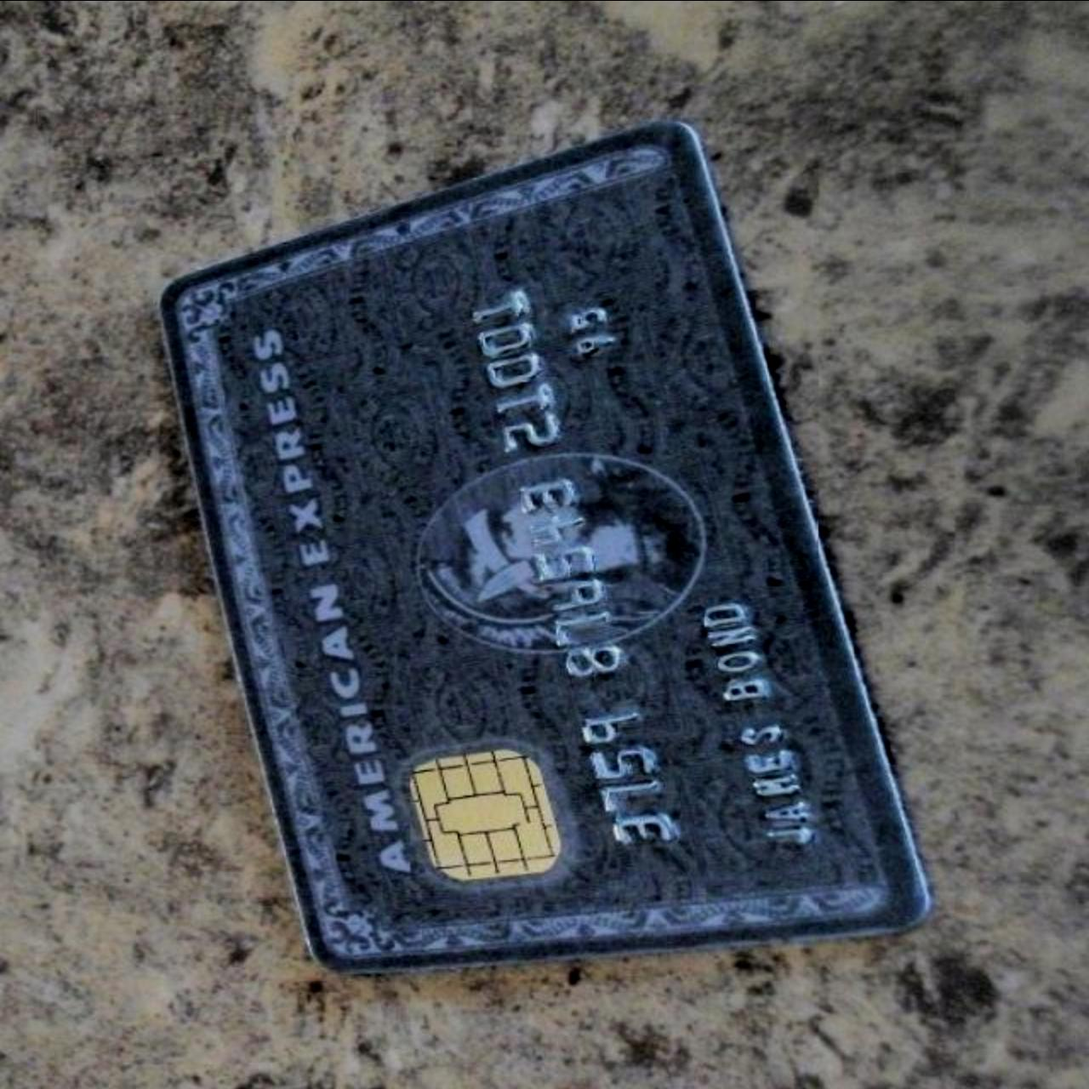credit_card: (153, 105, 949, 973)
